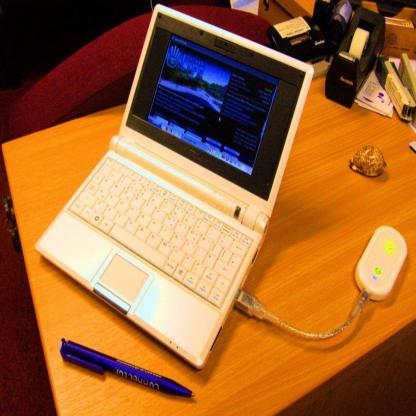board: (43, 8, 306, 392)
